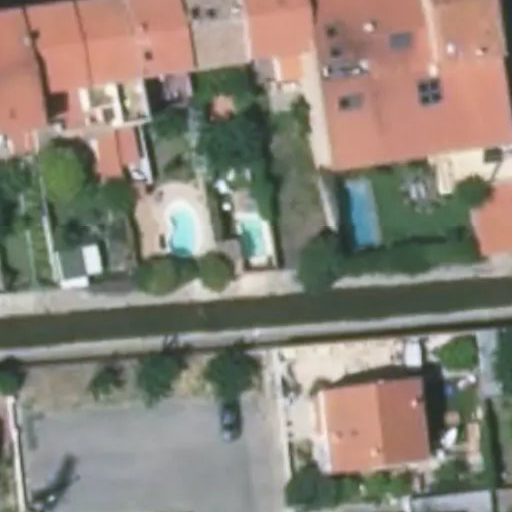pool: (241, 226, 270, 257)
